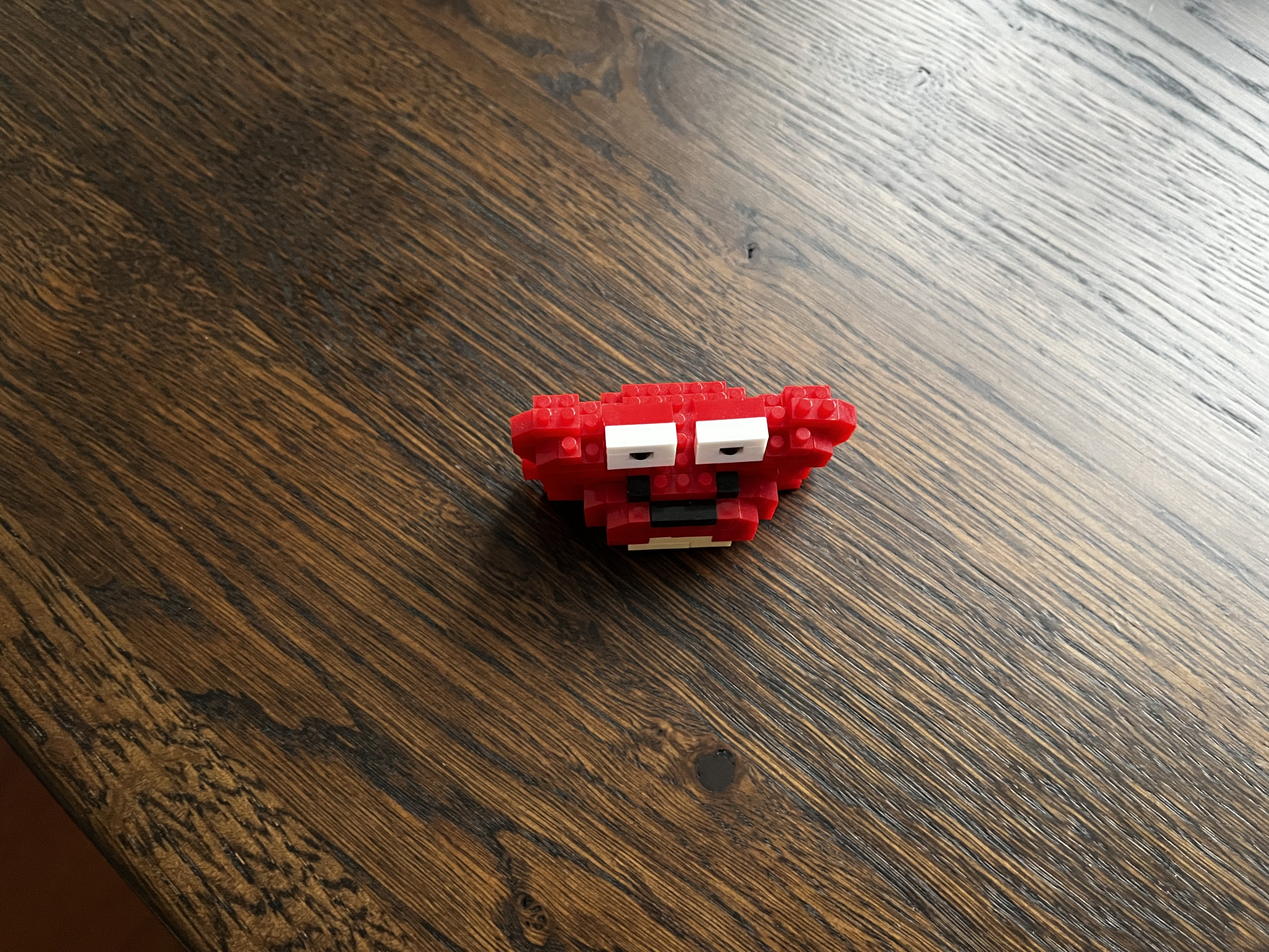crab: (502, 367, 873, 561)
